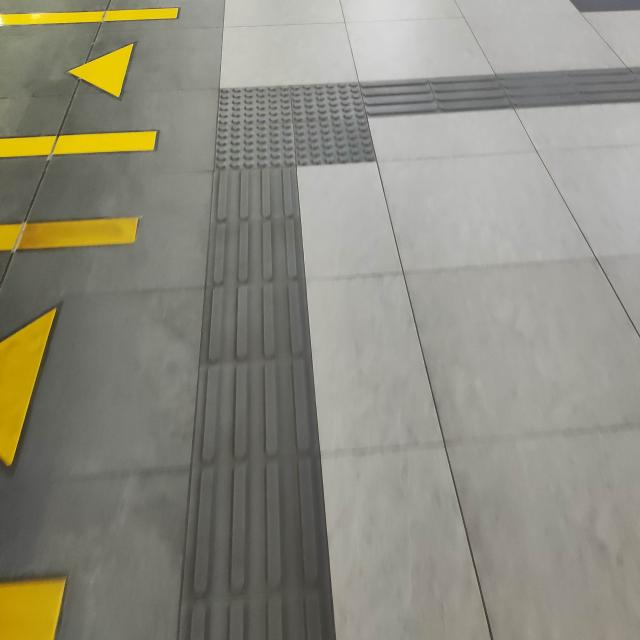kanan: (195, 63, 472, 180)
